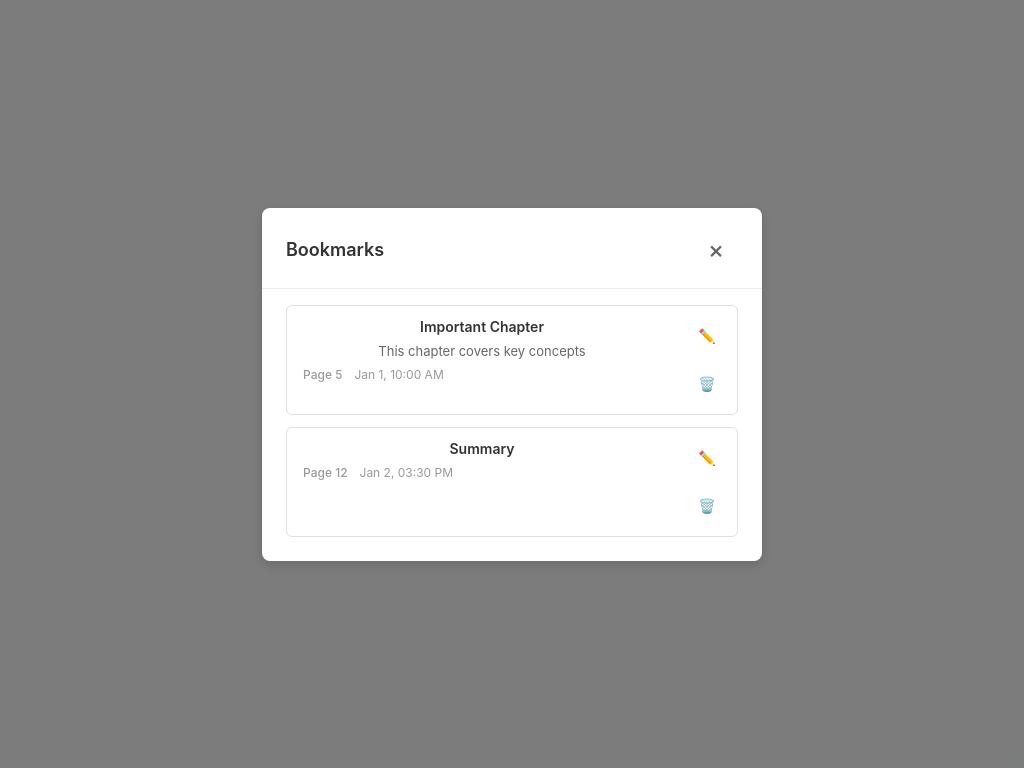
Test case: BookmarkPanel › enters edit mode when edit button is clicked
The image size is (1024, 768).
Click the button named "Edit bookmark".
click(707, 336)  # box [685,314,729,358]
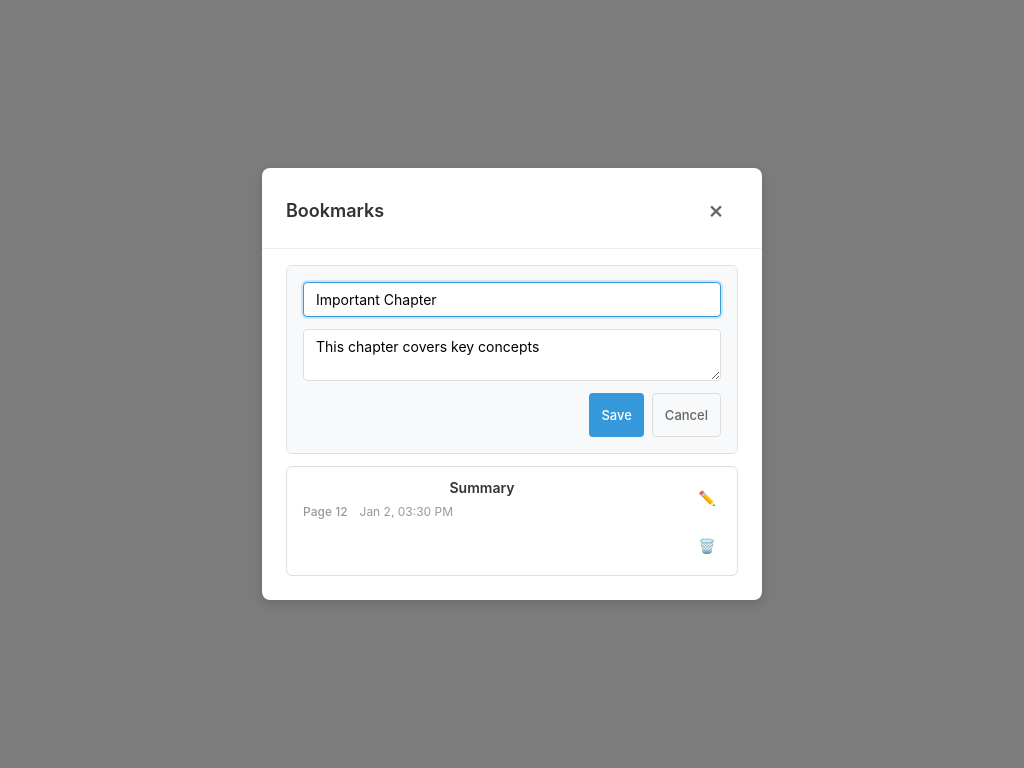
Check: the field showing "Important Chapter" is shown, box [303,282,721,317]
Check: the text box showing "This chapter covers key concepts" is shown, box [303,329,721,381]
Check: the button "Save" is shown, box [589,393,644,437]
